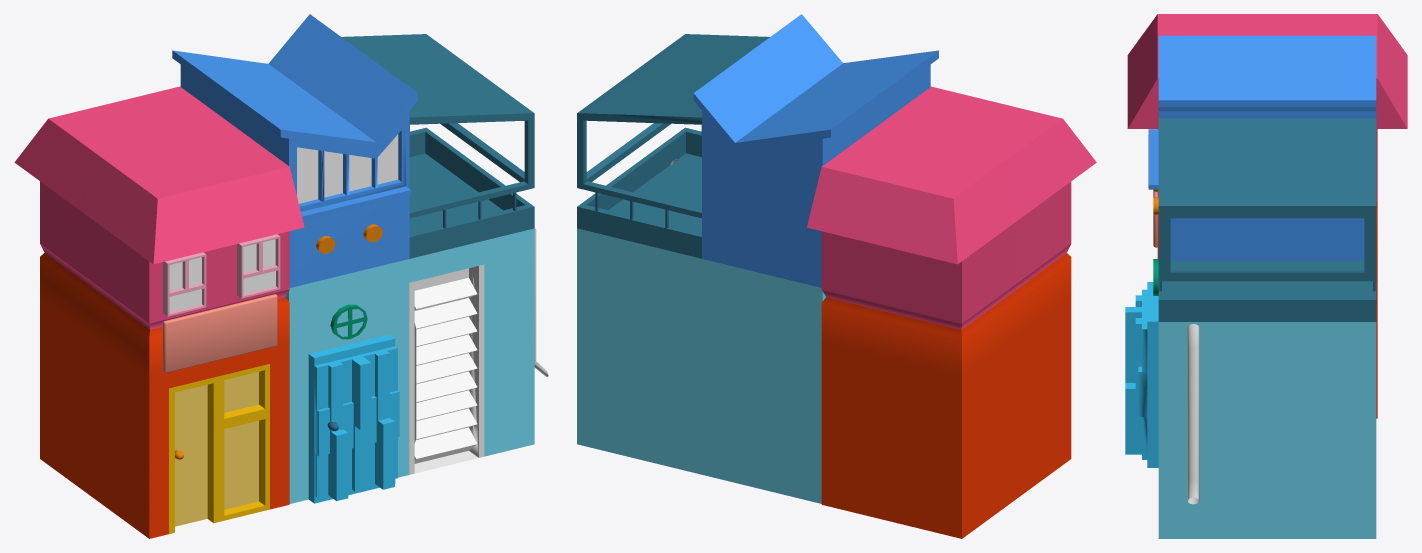
3 renders of one model, left to right at view 1: azimuth 30°, elevation 25°; view 2: azimuth 150°, elevation 25°; view 3: azimuth 270°, elevation 25°, orthographic.
Parts seen in each view (by area): view 1: Box004, Box001, ChamferBox001, Box002, Box003, Cylinder001; view 2: Box004, Box001; view 3: Box004, Box001, Cylinder004.
Boxes of the visible parts, x1,y1,x2,y2 form: Box004: (172, 14, 534, 503); Box001: (14, 86, 304, 538); ChamferBox001: (163, 294, 277, 372); Box002: (237, 234, 280, 298); Box003: (163, 252, 206, 316); Cylinder001: (330, 304, 367, 339); Box004: (577, 14, 938, 503); Box001: (807, 86, 1096, 538); Box004: (1125, 35, 1376, 538); Box001: (1127, 14, 1407, 418); Cylinder004: (1187, 324, 1199, 504).
Size of the model in its own units: 134 by 115 by 76.8.
6 materials, 1 textured.
